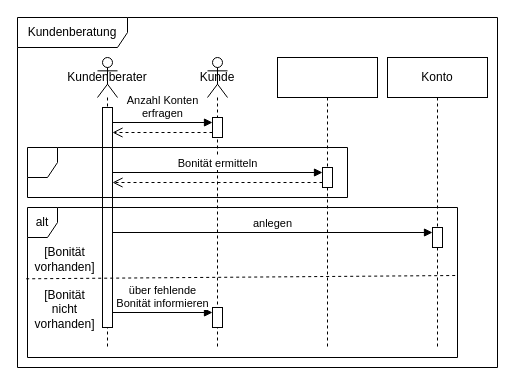
The diagram is 515 pixels wide and 385 high, and some of its shapes have lost their labels. Here are the shapes that lost their labels. From the top down, the box of each, then its label:
(26, 146, 348, 198): cri
(276, 56, 378, 348): Datenbank
